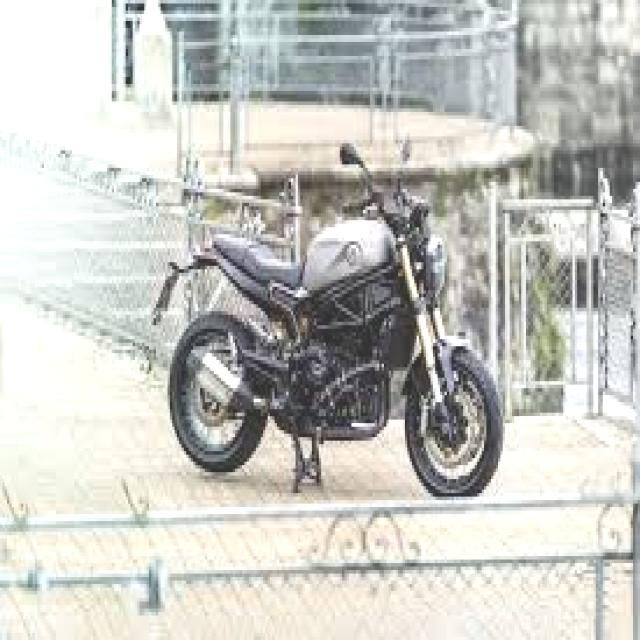MOTORCYCLE: (166, 224, 506, 503)
